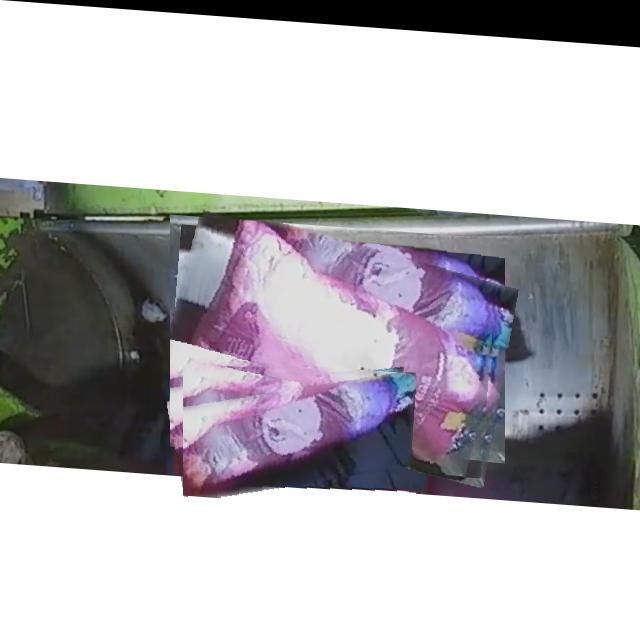other_trashbag: (170, 216, 490, 468), (183, 367, 416, 493)
